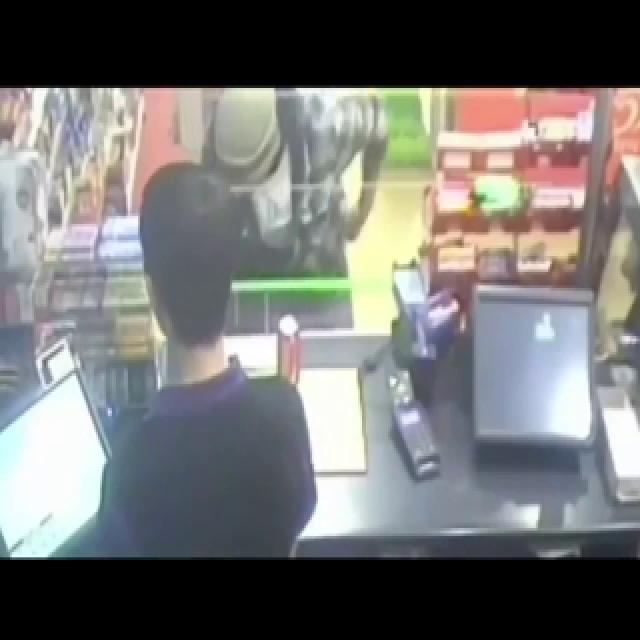robbery: (148, 76, 367, 484)
